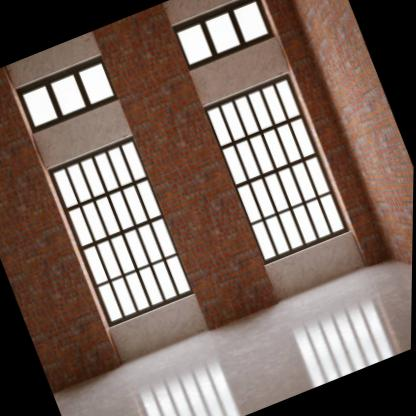Window: (46, 136, 194, 324), (203, 75, 348, 259), (171, 0, 274, 69), (17, 56, 113, 128)
